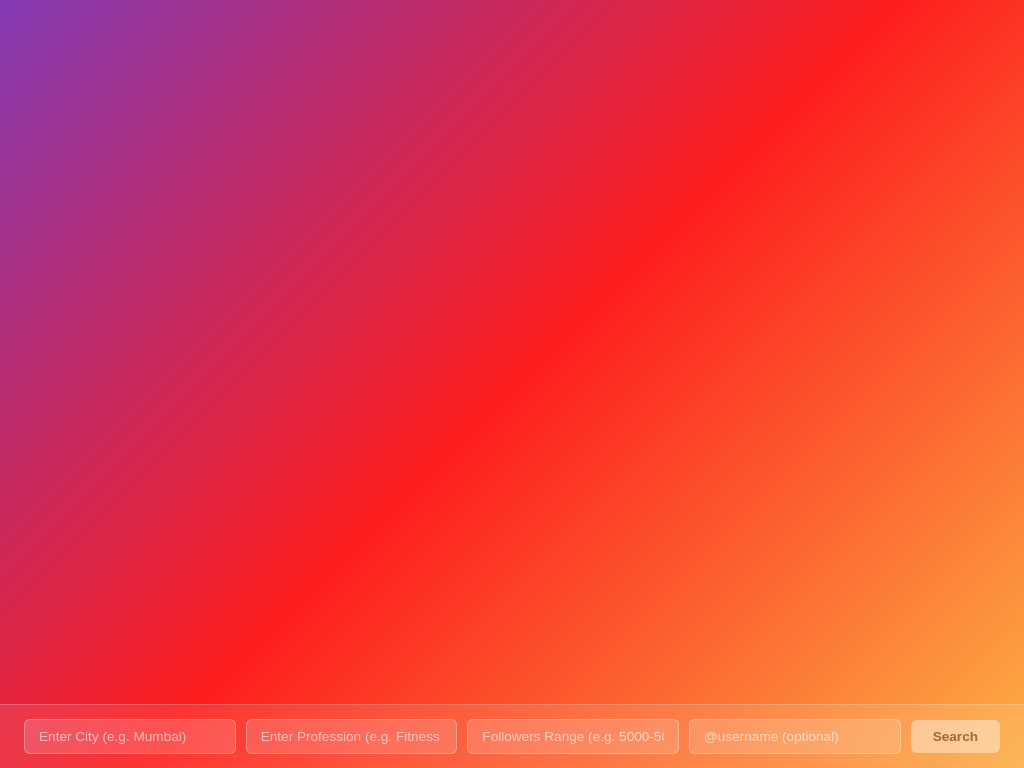
Test: SearchBar › search button enables when city and profession are filled
Type "Mumbai" into the field with placeholder "Enter City (e.g. Mumbai)" at x=130, y=736, box [24, 719, 236, 754]
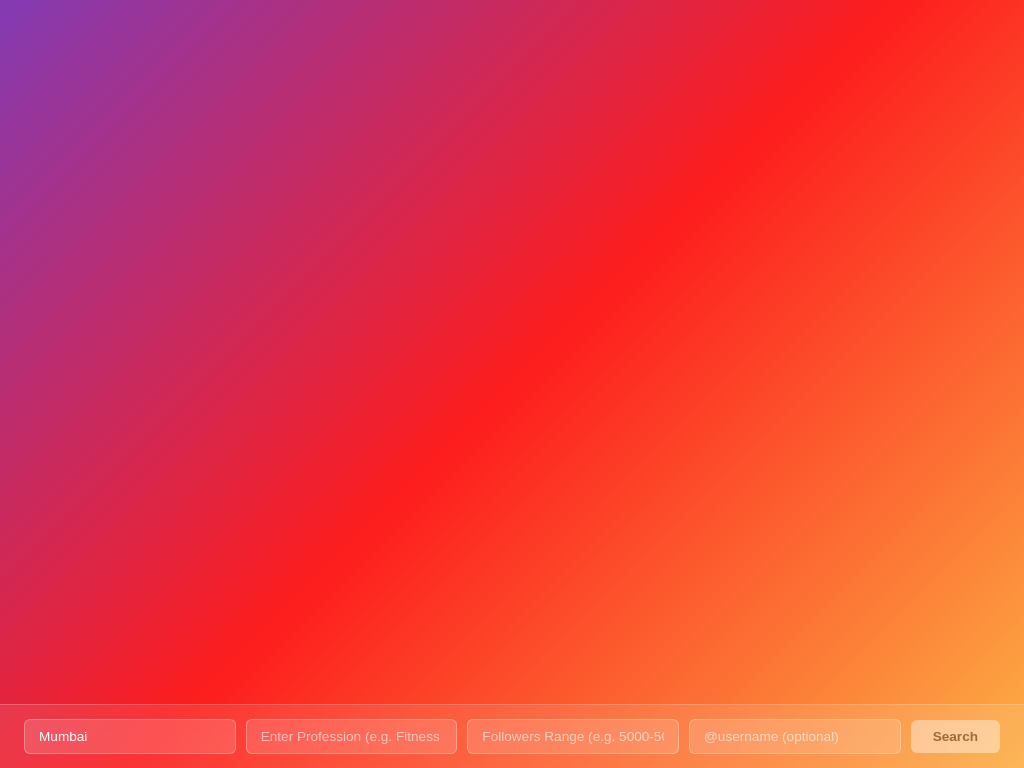
Type "Trainer" into the field with placeholder "Enter Profession (e.g. Fitness Trainer)" at x=352, y=736, box [246, 719, 457, 754]
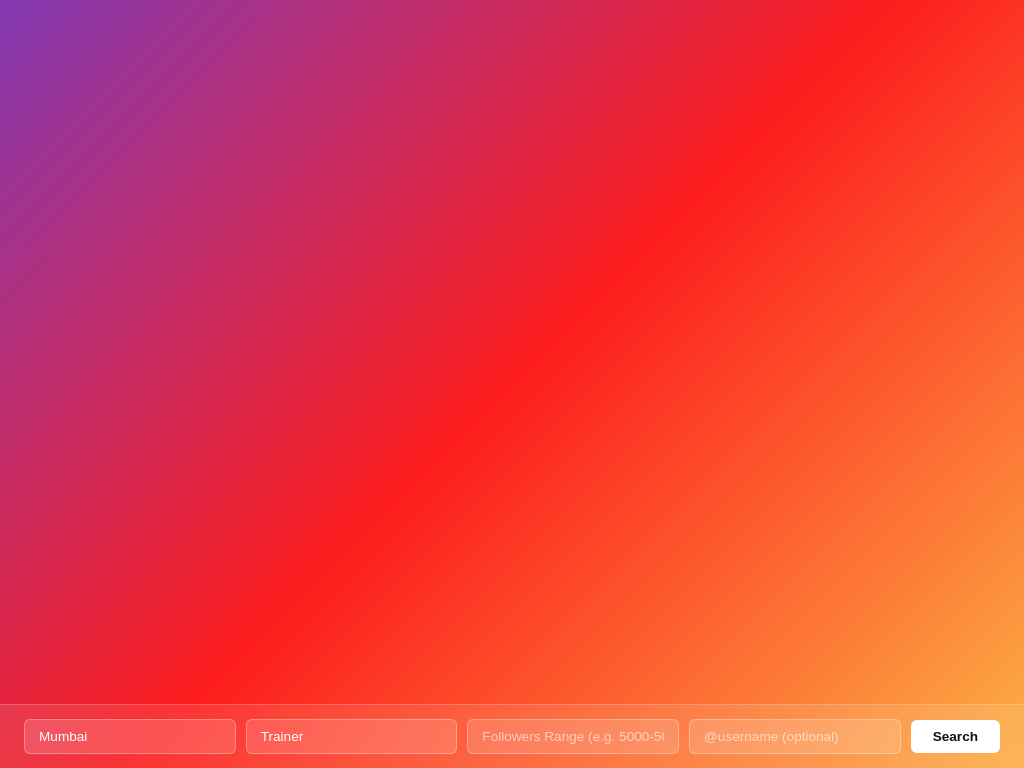
Expected: the button "Search" is enabled, [911, 720, 1000, 753]
